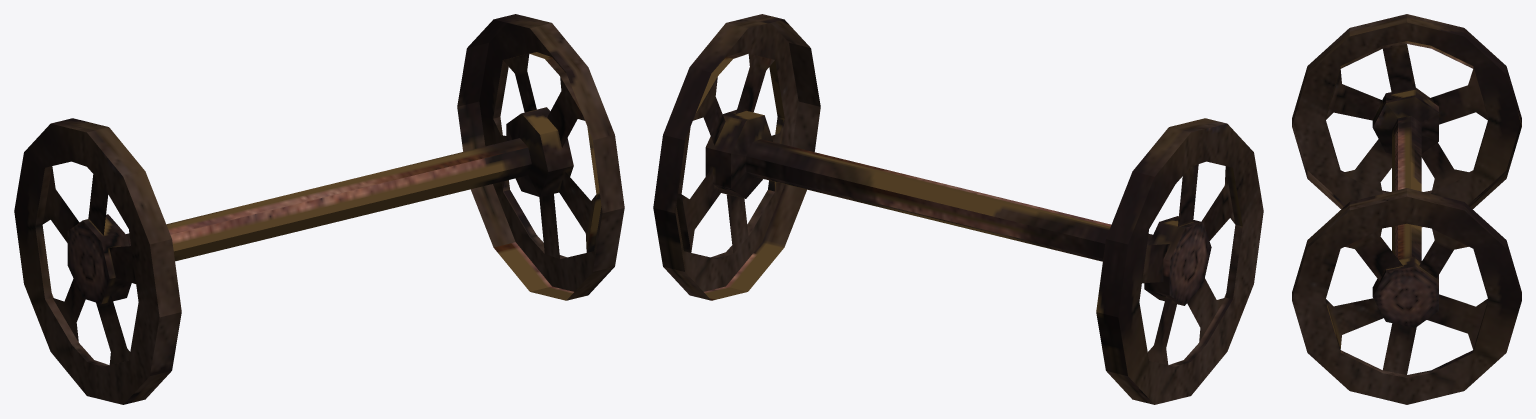
The model's file is wagonwheel_front.glb.
The picture shows the model from 3 angles, left to right: view 1: azimuth 30°, elevation 25°; view 2: azimuth 150°, elevation 25°; view 3: azimuth 270°, elevation 25°; orthographic projection. The views are drawn at different scales.
Parts seen in each view (by area): view 1: wagonwheel_front; view 2: wagonwheel_front; view 3: wagonwheel_front.
Boxes of the visible parts, box(x1,y1,x2,y2) form: wagonwheel_front: box(14, 14, 624, 404); wagonwheel_front: box(653, 14, 1263, 404); wagonwheel_front: box(1292, 14, 1521, 404).
Size of the model in its own units: 2.61 by 1.43 by 1.41.
Materials: 1 (1 with a texture image).
